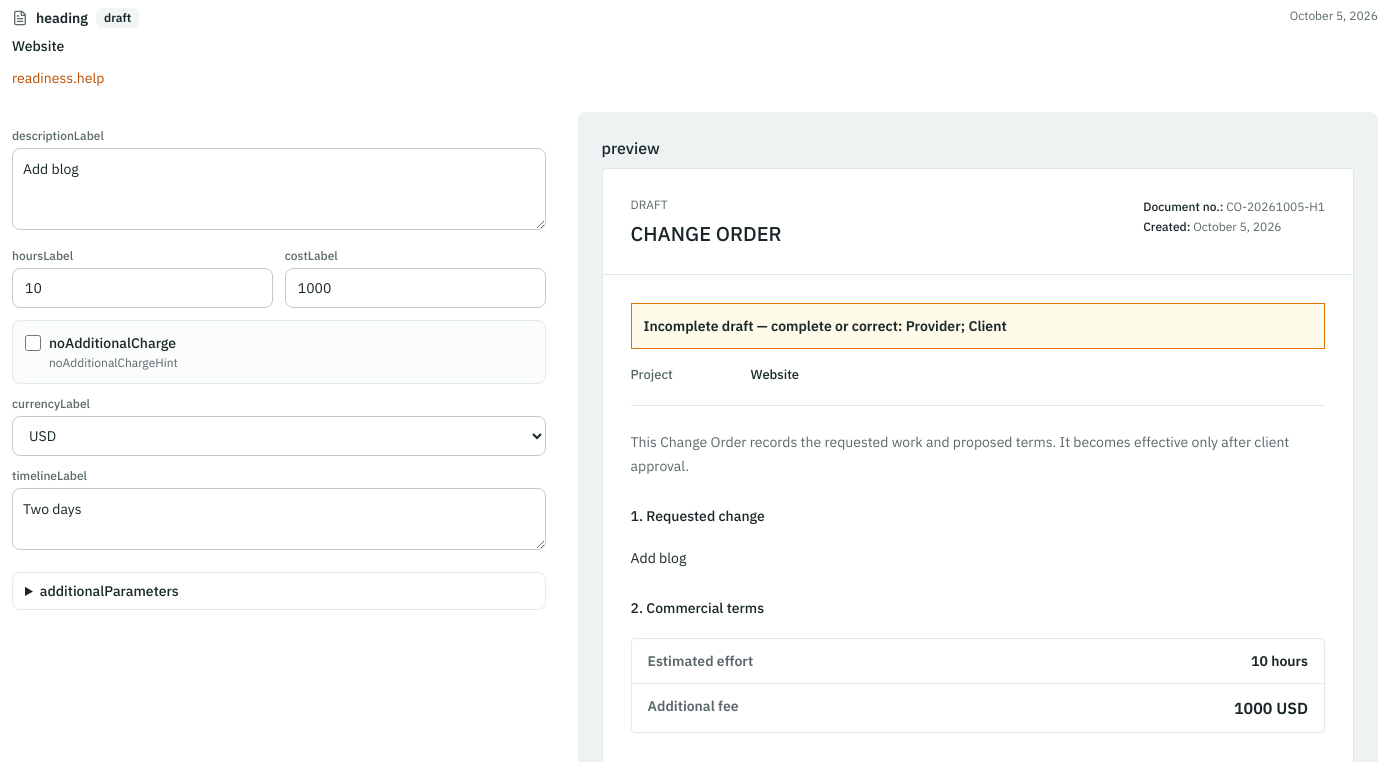
Test: makes no-charge work explicit and restores the paid amount when switched back
Click the checkbox labelled "noAdditionalCharge noAdditionalChargeHint": (33, 343) [25,335,41,351]
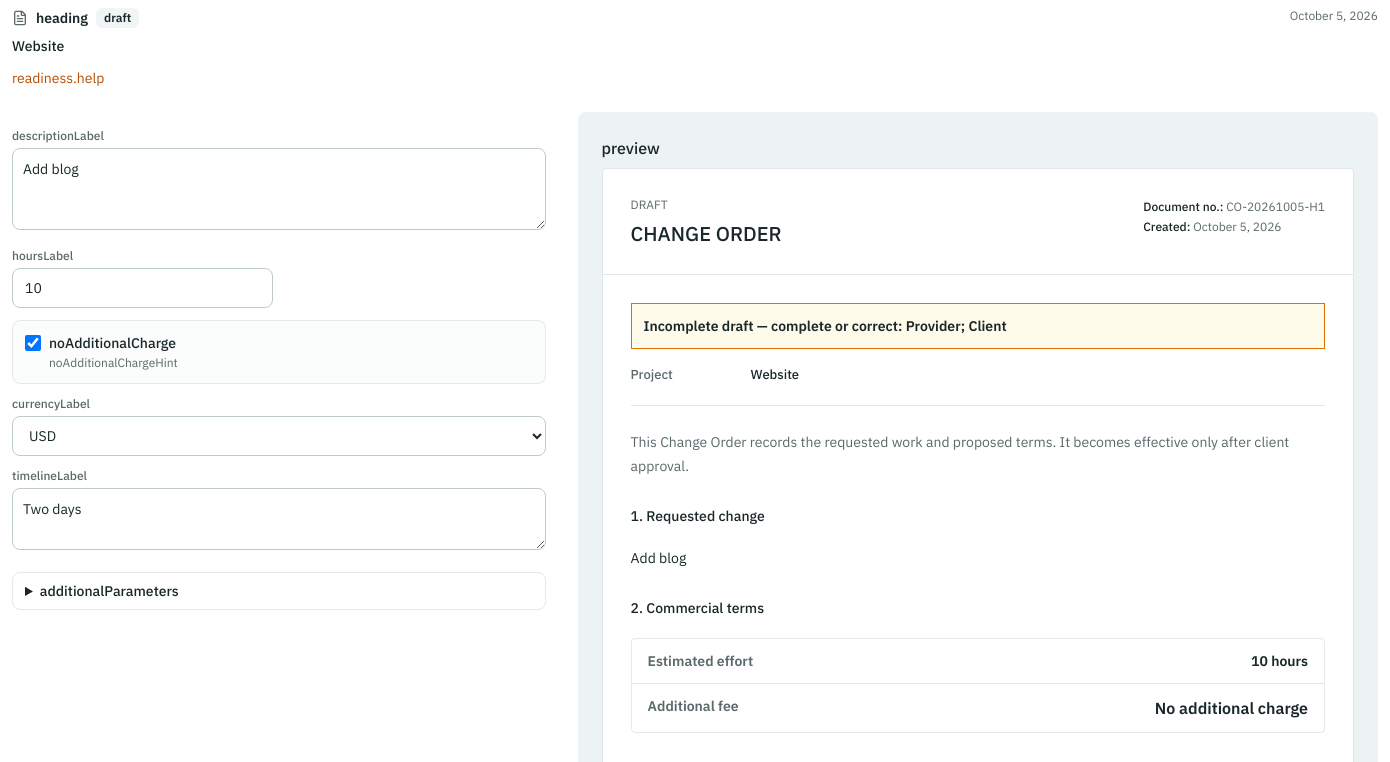
Result: the label with id "co-additionalCost" is gone
Result: the element with test id "change-order-document-preview" shows "No additional charge" at [1155,698,1308,718]
Click the checkbox labelled "noAdditionalCharge noAdditionalChargeHint": (33, 343) [25,335,41,351]
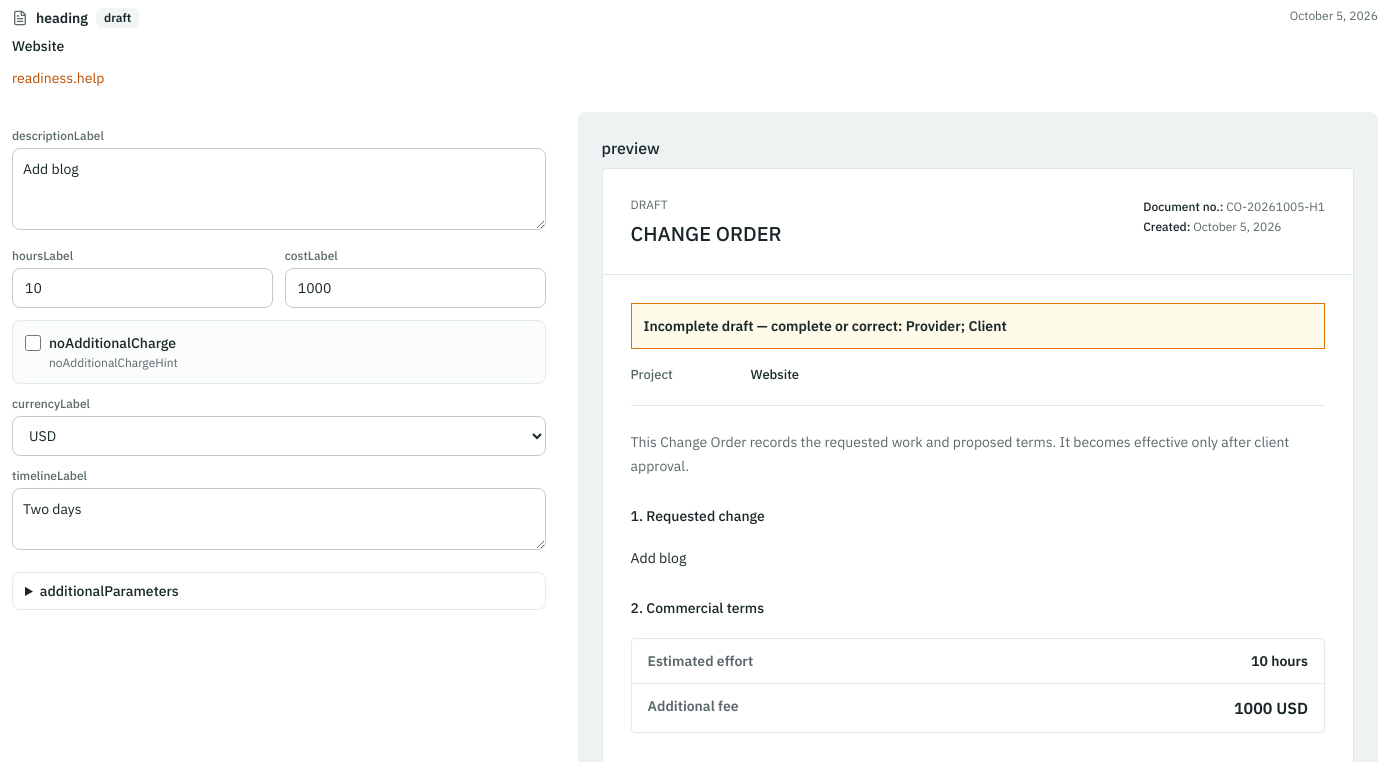
Result: the field with id "co-additionalCost" holds "1000" at [285,268,546,308]
